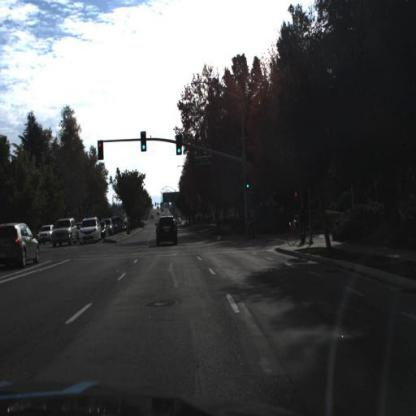biker: (299, 198, 307, 243), (248, 206, 255, 237)
car: (1, 224, 42, 267), (156, 215, 179, 248), (53, 218, 79, 247), (80, 215, 102, 246), (40, 224, 54, 246), (101, 221, 108, 239)
pedestrian: (287, 198, 315, 249), (243, 207, 261, 243)
trafficLight-Green: (244, 175, 253, 198), (176, 135, 183, 157), (140, 131, 147, 152), (245, 171, 251, 192)
trafficLight-RedLeft: (99, 140, 104, 160)
